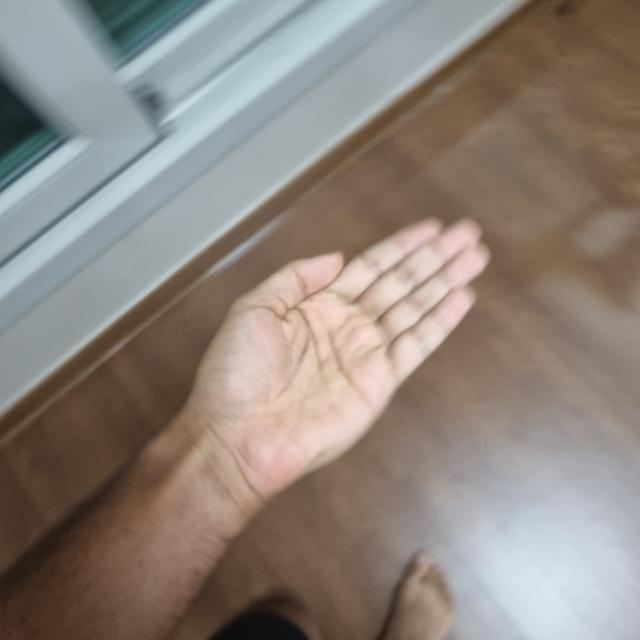Paper: (212, 257, 394, 483)
